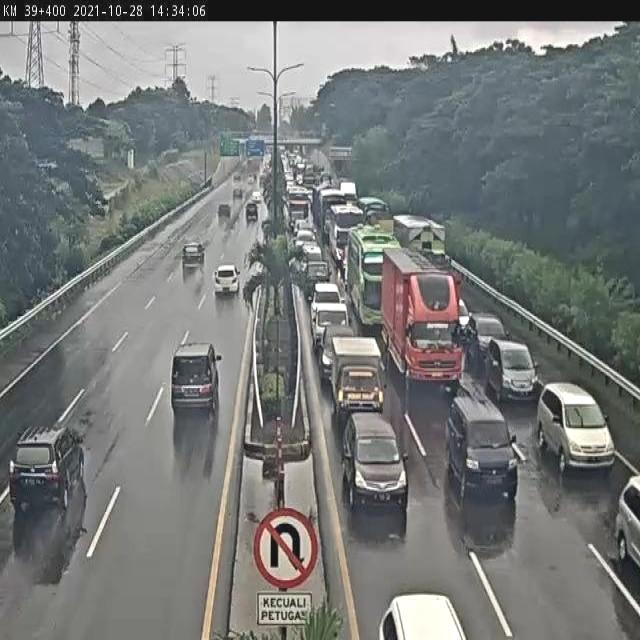Car: (538, 379, 618, 475), (340, 410, 408, 513), (9, 424, 86, 506), (486, 336, 540, 399), (181, 240, 204, 270)
Truck: (380, 248, 463, 388), (331, 336, 387, 419)
Van: (446, 392, 520, 500), (168, 342, 220, 417), (211, 264, 242, 301)
